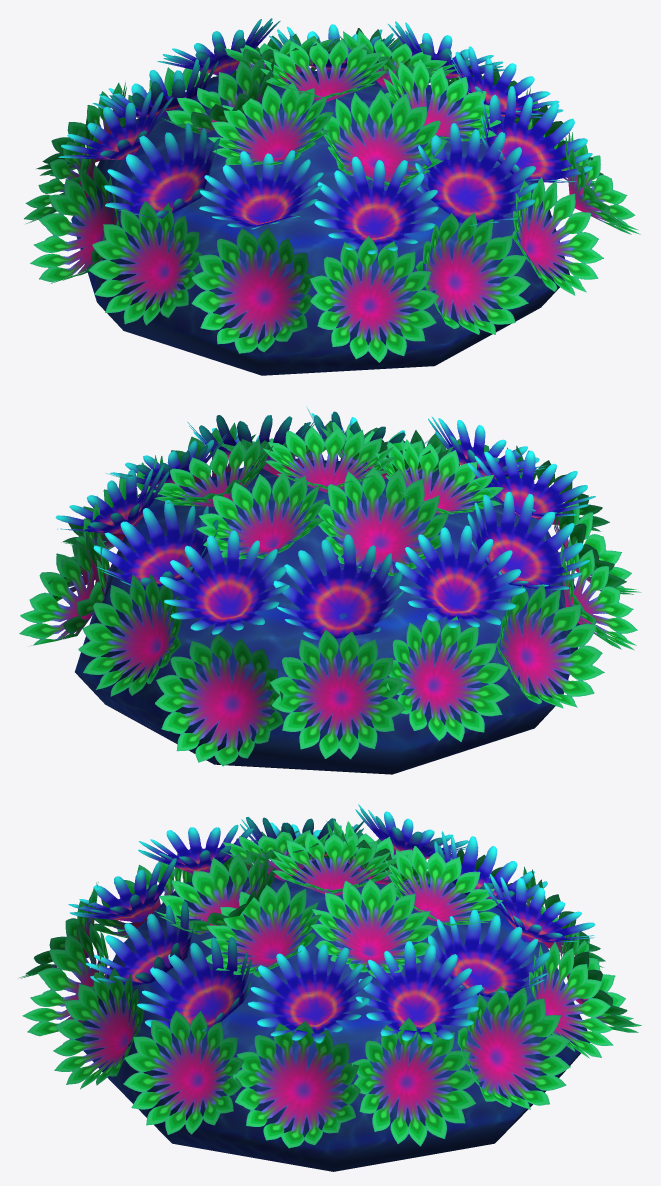
File: Coral_16c.FBX
3 renders of one model, top to bottom at view 1: azimuth 30°, elevation 25°; view 2: azimuth 150°, elevation 25°; view 3: azimuth 270°, elevation 25°, orthographic. The views are drawn at different scales.
Visible parts, largest first — view 1: Coral_16c; view 2: Coral_16c; view 3: Coral_16c.
Boxes of the visible parts, x1,y1,x2,y2 form: Coral_16c: (24, 18, 640, 375); Coral_16c: (19, 406, 641, 774); Coral_16c: (19, 804, 641, 1171).
Size of the model in its own units: 31.04 by 12.43 by 31.43.
